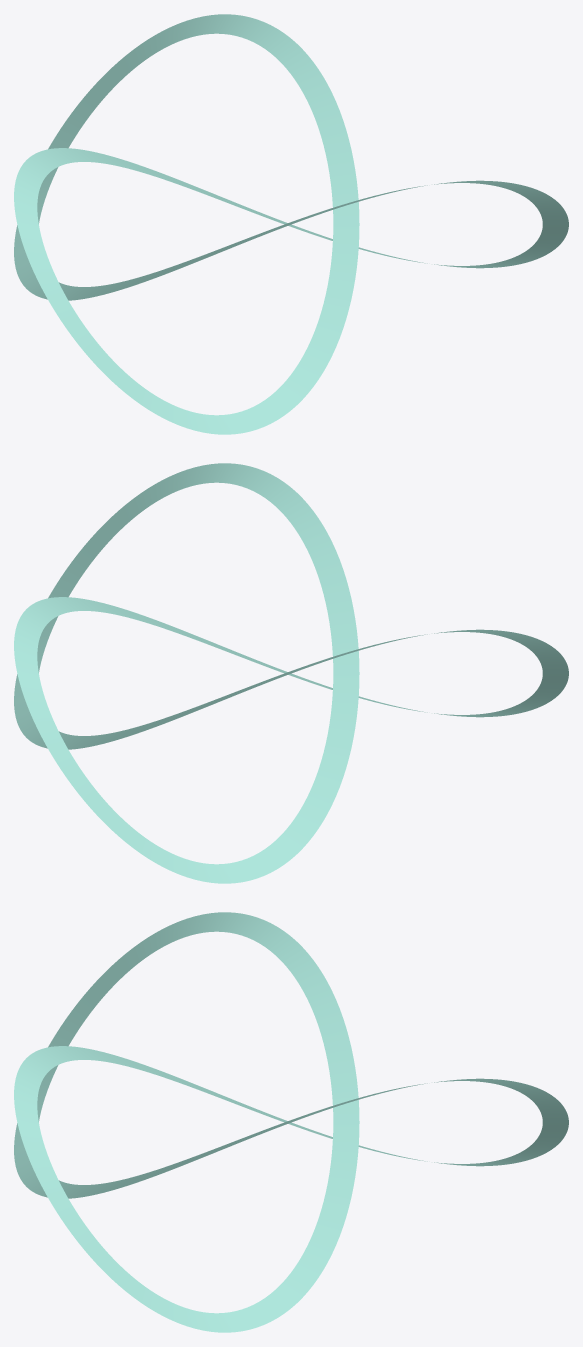
The model's file is example.gltf.
The picture shows the model from 3 angles, top to bottom: view 1: azimuth 30°, elevation 25°; view 2: azimuth 150°, elevation 25°; view 3: azimuth 270°, elevation 25°; orthographic projection.
Visible parts, largest first — view 1: ribbon; view 2: ribbon; view 3: ribbon.
Part boxes in pixels (x1=…): ribbon: x1=14, y1=14, x2=568, y2=434; ribbon: x1=14, y1=463, x2=568, y2=883; ribbon: x1=14, y1=912, x2=568, y2=1332.
Size of the model in its own units: 5.71 by 2.11 by 5.3.
